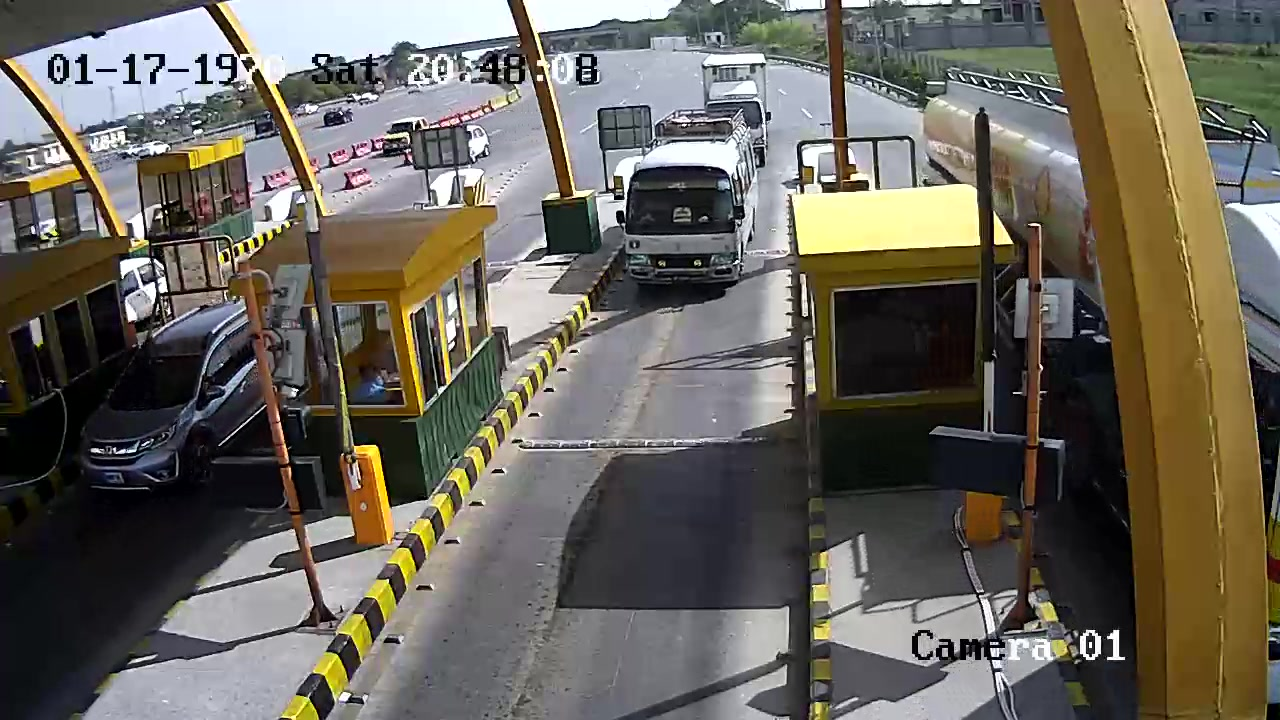F3: (615, 106, 762, 295)
